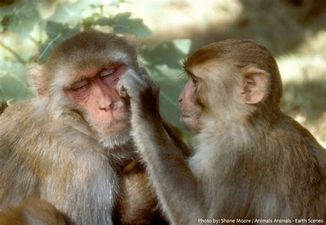monkey: (157, 25, 306, 222), (1, 12, 139, 214)
